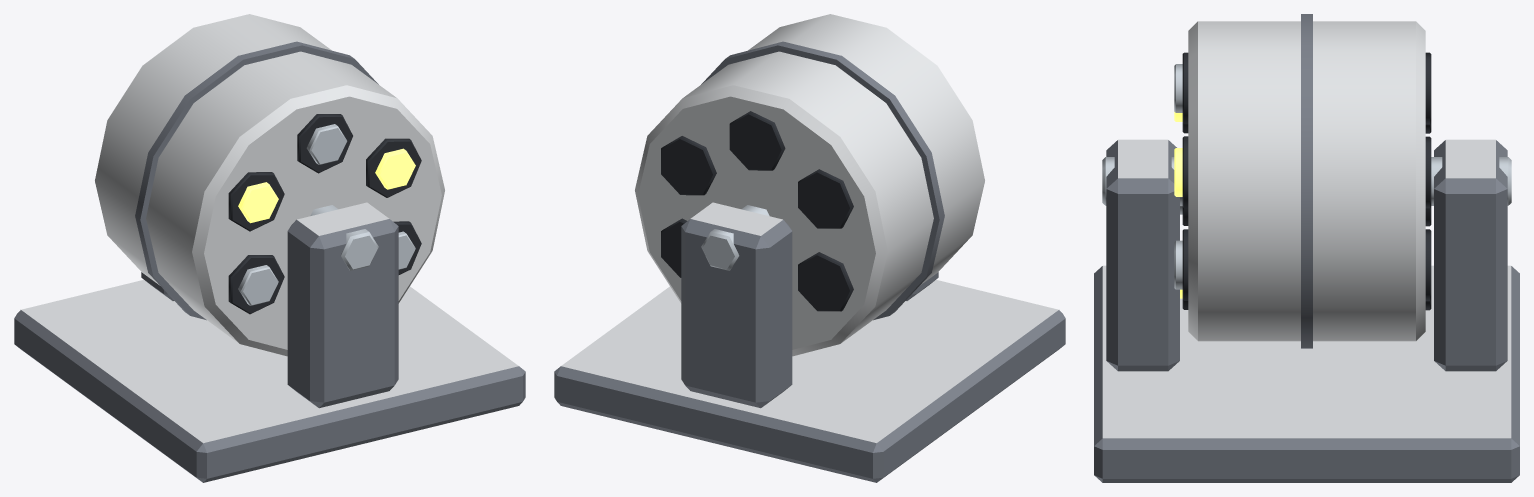
Rendered from R4X_ReloadBooster_LOD1.fbx.
3 renders of one model, left to right at view 1: azimuth 30°, elevation 25°; view 2: azimuth 150°, elevation 25°; view 3: azimuth 270°, elevation 25°, orthographic. The views are drawn at different scales.
Visible parts, largest first — view 1: R4X_ReloadBooster_LOD1; view 2: R4X_ReloadBooster_LOD1; view 3: R4X_ReloadBooster_LOD1.
Part boxes in pixels (bbox=[...]): R4X_ReloadBooster_LOD1: bbox=[14, 14, 525, 482]; R4X_ReloadBooster_LOD1: bbox=[554, 14, 1065, 482]; R4X_ReloadBooster_LOD1: bbox=[1094, 14, 1519, 482].
Bounding box in the file's own units: 0.52 × 0.4938 × 0.52.
